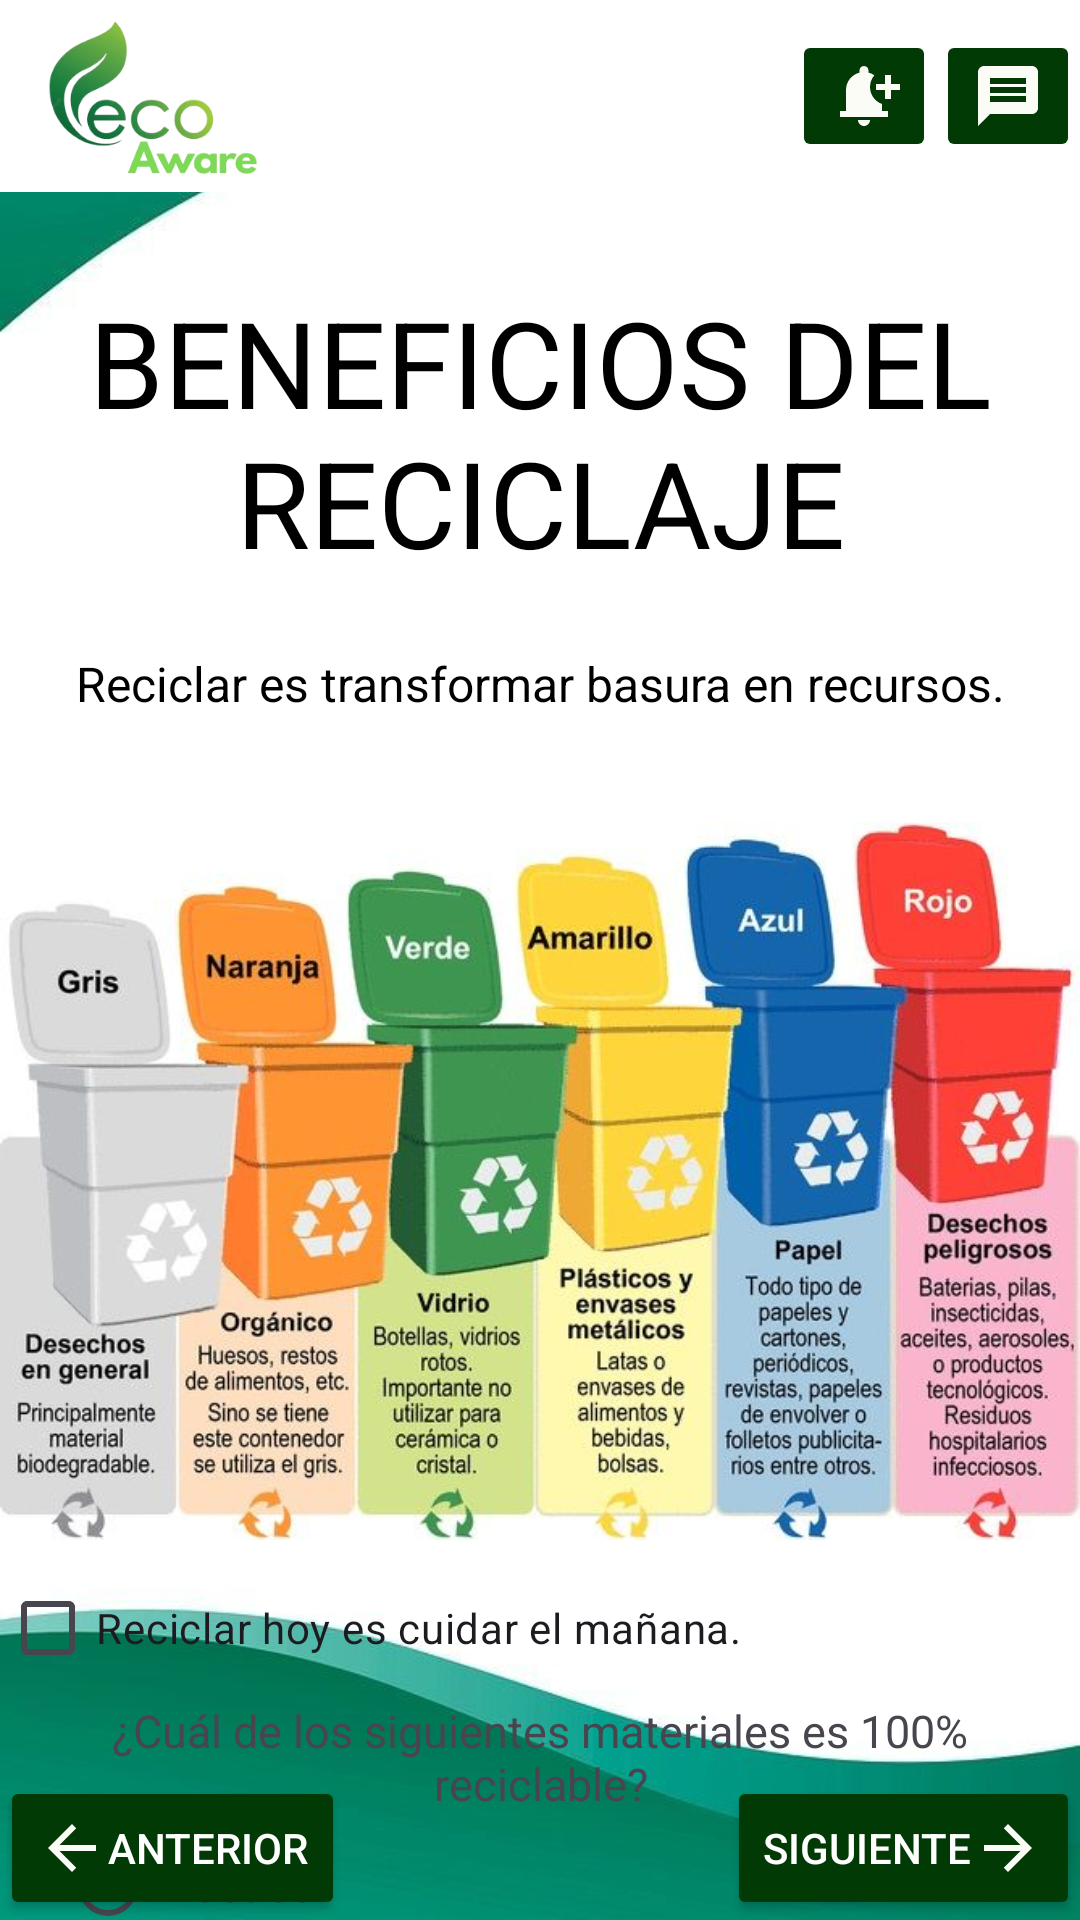

Icon click points for this 1080px×1920px phone screenshot, format (x,y):
iconomensaje: (1008,96)
icononotificacion: (864,96)
